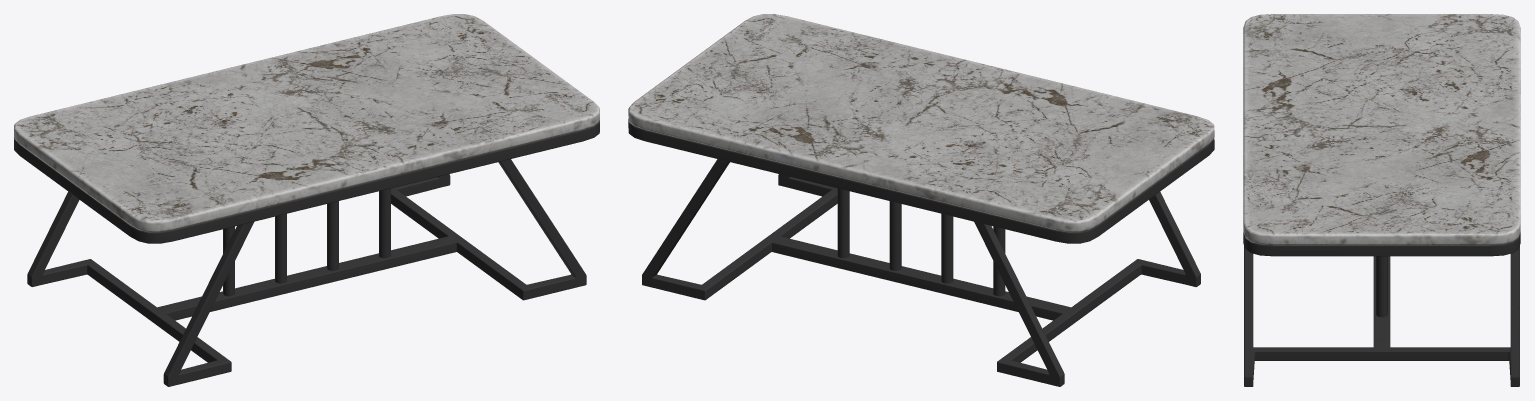
The model's file is mansion-coffee.glb.
The picture shows the model from 3 angles, left to right: view 1: azimuth 30°, elevation 25°; view 2: azimuth 150°, elevation 25°; view 3: azimuth 270°, elevation 25°; orthographic projection. The views are drawn at different scales.
Size of the model in its own units: 0.85 by 0.2923 by 0.45.
1 material, 1 textured.
